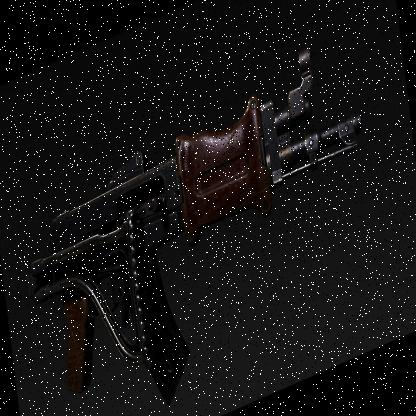rifle: (25, 58, 390, 416)
